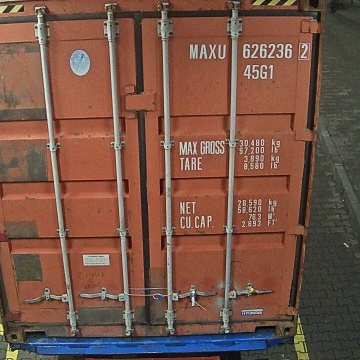serial_id: (188, 43, 309, 59)
